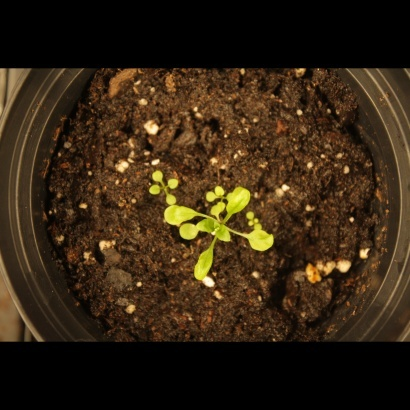leaf: (188, 246, 219, 286), (225, 183, 254, 219), (160, 200, 197, 228), (246, 229, 277, 257), (145, 161, 168, 184), (166, 166, 189, 189), (141, 183, 164, 206), (161, 186, 184, 209), (176, 220, 199, 243), (205, 197, 228, 220), (194, 214, 217, 237), (216, 226, 239, 249)
